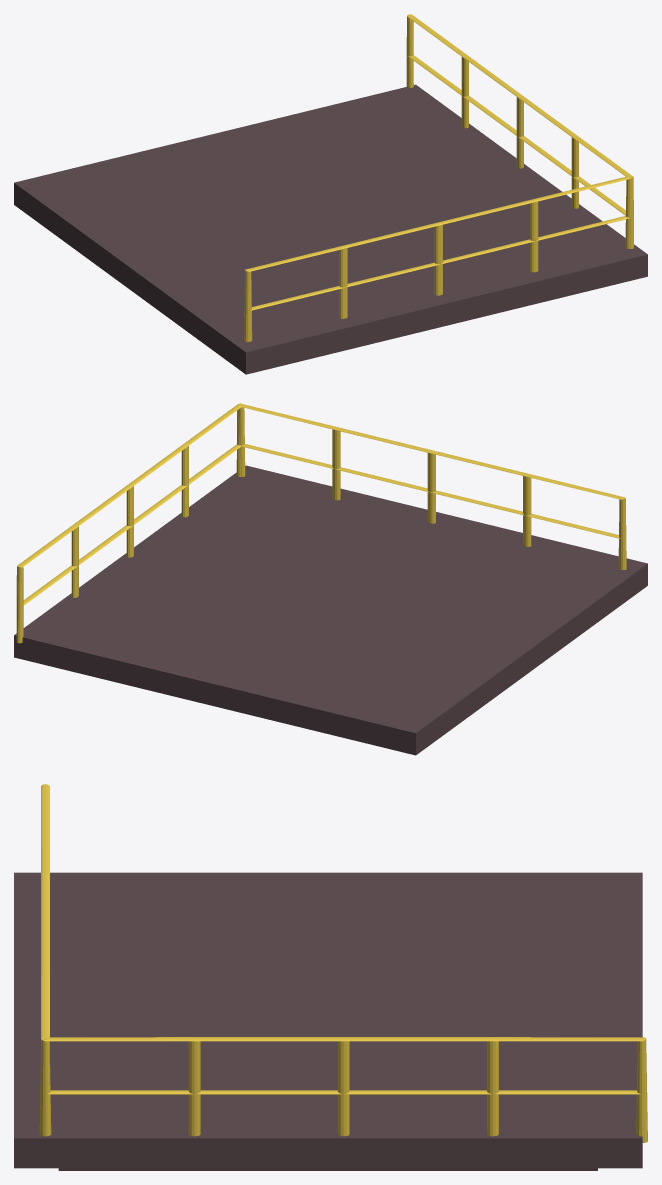
File: plataformacolor2A.fbx
3 renders of one model, top to bottom at view 1: azimuth 30°, elevation 25°; view 2: azimuth 150°, elevation 25°; view 3: azimuth 270°, elevation 25°, orthographic. The views are drawn at different scales.
Parts seen in each view (by area): view 1: Cube.001, Plane.001, Plane.002; view 2: Cube.001, Plane.001, Plane.002; view 3: Cube.001, Plane.002, Plane.001, Cube.002.
Part boxes in pixels (box(x1,y1,x2,y2)): Cube.001: box(14, 84, 647, 374); Plane.001: box(244, 176, 632, 342); Plane.002: box(406, 14, 633, 248); Cube.001: box(14, 465, 647, 755); Plane.001: box(238, 404, 626, 569); Plane.002: box(16, 403, 242, 643); Cube.001: box(14, 872, 642, 1168); Plane.002: box(39, 1037, 647, 1142); Plane.001: box(41, 784, 49, 1045); Cube.002: box(58, 1168, 597, 1170).
Size of the model in its own units: 3294 by 853 by 3322.
